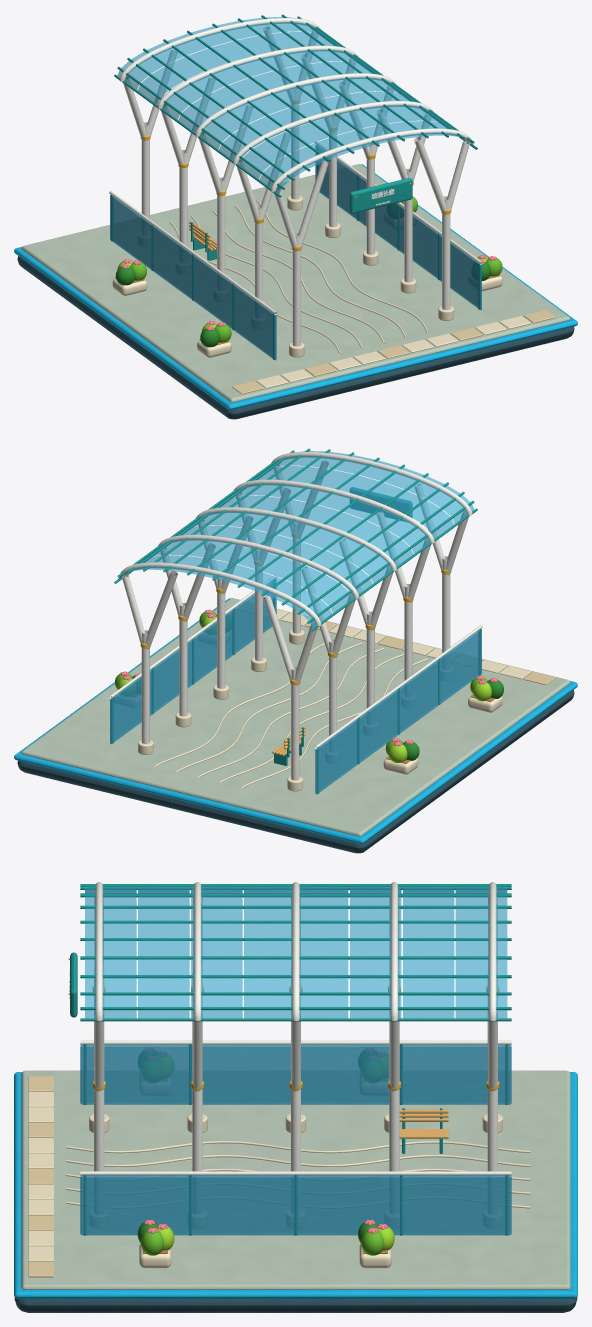
File: 16_glass_gallery.glb
The picture shows the model from 3 angles, top to bottom: view 1: azimuth 30°, elevation 25°; view 2: azimuth 150°, elevation 25°; view 3: azimuth 270°, elevation 25°; orthographic projection. The views are drawn at different scales.
Visible parts, largest first — view 1: 16_glass_gallery_Architecture, 16_glass_gallery_Display_Base, 16_glass_gallery_Landscaping; view 2: 16_glass_gallery_Architecture, 16_glass_gallery_Display_Base, 16_glass_gallery_Landscaping; view 3: 16_glass_gallery_Architecture, 16_glass_gallery_Display_Base, 16_glass_gallery_Landscaping.
Boxes of the visible parts, x1=… form: 16_glass_gallery_Architecture: x1=109, y1=14, x2=502, y2=360; 16_glass_gallery_Display_Base: x1=14, y1=164, x2=577, y2=419; 16_glass_gallery_Landscaping: x1=115, y1=196, x2=502, y2=347; 16_glass_gallery_Architecture: x1=109, y1=448, x2=502, y2=794; 16_glass_gallery_Display_Base: x1=14, y1=598, x2=577, y2=853; 16_glass_gallery_Landscaping: x1=115, y1=609, x2=503, y2=765; 16_glass_gallery_Architecture: x1=66, y1=882, x2=530, y2=1268; 16_glass_gallery_Display_Base: x1=14, y1=1070, x2=577, y2=1312; 16_glass_gallery_Landscaping: x1=137, y1=1108, x2=448, y2=1255.
Size of the model in its own units: 11.23 by 6.77 by 12.03.
3 materials, 3 textured.
